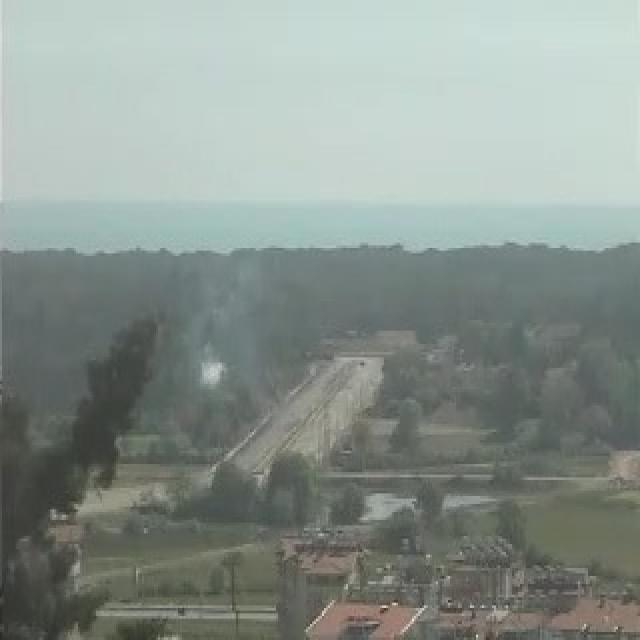smoke: (180, 321, 237, 398)
